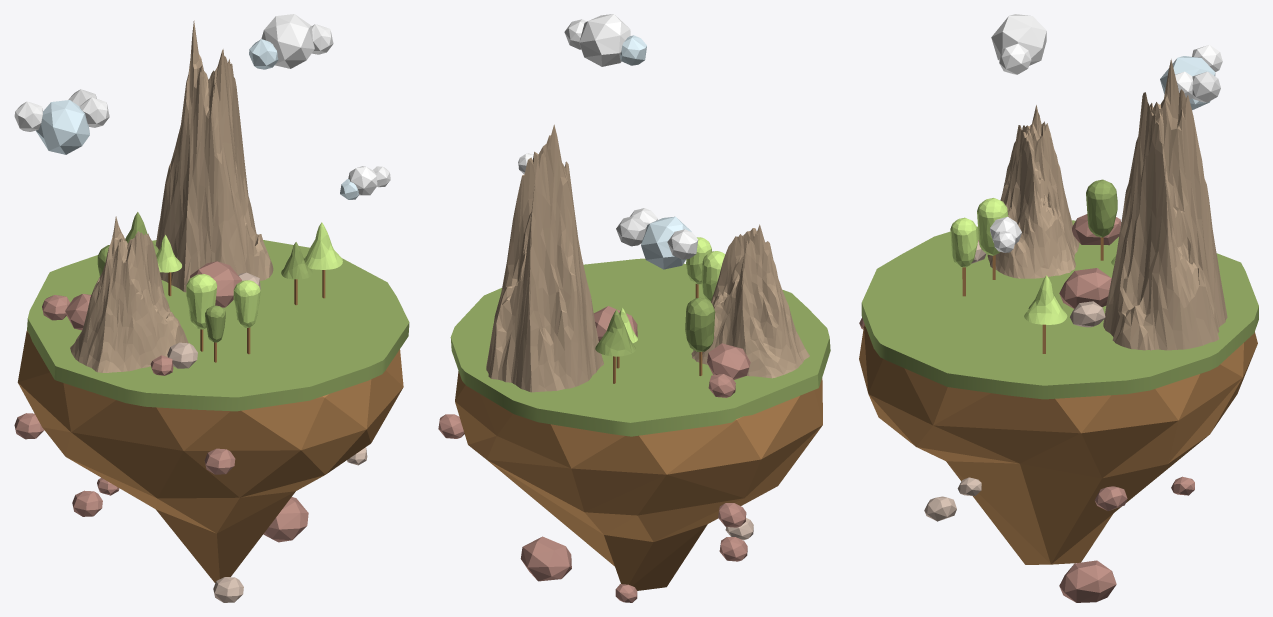
The picture shows the model from 3 angles, left to right: view 1: azimuth 30°, elevation 25°; view 2: azimuth 150°, elevation 25°; view 3: azimuth 270°, elevation 25°; orthographic projection. The views are drawn at different scales.
Visible parts, largest first — view 1: 球体_2_2, 立方体_4_2, 地形, 地形_2, 球体_13, 球体, 胶囊, 球体_10, 球体_3, 胶囊_2, 圆锥, 球体_16 (+14 smaller); view 2: 球体_2_2, 立方体_4_2, 地形, 地形_2, 球体, 球体_10, 球体_13, 胶囊_3, 球体_4, 圆锥_3, 胶囊, 球体_16 (+8 smaller); view 3: 球体_2_2, 立方体_4_2, 地形, 地形_2, 球体_10, 球体, 球体_3, 胶囊_3, 圆锥, 胶囊_2, 胶囊, 球体_13 (+6 smaller).
Boxes of the visible parts, <box> form: 球体_2_2: <box>17,330,403,582</box>; 立方体_4_2: <box>27,240,409,411</box>; 地形: <box>155,20,273,292</box>; 地形_2: <box>70,216,188,372</box>; 球体_13: <box>36,100,89,154</box>; 球体: <box>261,14,314,68</box>; 胶囊: <box>186,274,217,329</box>; 球体_10: <box>263,497,308,542</box>; 球体_3: <box>190,261,241,307</box>; 胶囊_2: <box>233,280,260,327</box>; 圆锥: <box>304,222,342,269</box>; 球体_16: <box>14,101,42,131</box>; 球体_2_2: <box>455,371,822,590</box>; 立方体_4_2: <box>450,258,830,436</box>; 地形: <box>486,124,603,392</box>; 地形_2: <box>691,224,809,378</box>; 球体: <box>579,14,630,66</box>; 球体_10: <box>520,536,571,581</box>; 球体_13: <box>641,216,691,269</box>; 胶囊_3: <box>685,297,715,351</box>; 球体_4: <box>707,343,750,379</box>; 圆锥_3: <box>595,309,635,356</box>; 胶囊: <box>701,251,725,301</box>; 球体_16: <box>667,229,698,259</box>; 球体_2_2: <box>859,324,1257,564</box>; 立方体_4_2: <box>861,220,1258,399</box>; 地形: <box>1103,59,1227,350</box>; 地形_2: <box>987,105,1079,278</box>; 球体_10: <box>1059,560,1116,602</box>; 球体: <box>991,14,1046,65</box>; 球体_3: <box>1059,268,1111,308</box>; 胶囊_3: <box>1086,179,1117,237</box>; 圆锥: <box>1024,275,1067,324</box>; 胶囊_2: <box>950,217,977,267</box>; 胶囊: <box>977,198,1008,255</box>; 球体_13: <box>1160,56,1215,110</box>.
Size of the model in its own units: 210 by 323 by 202.
